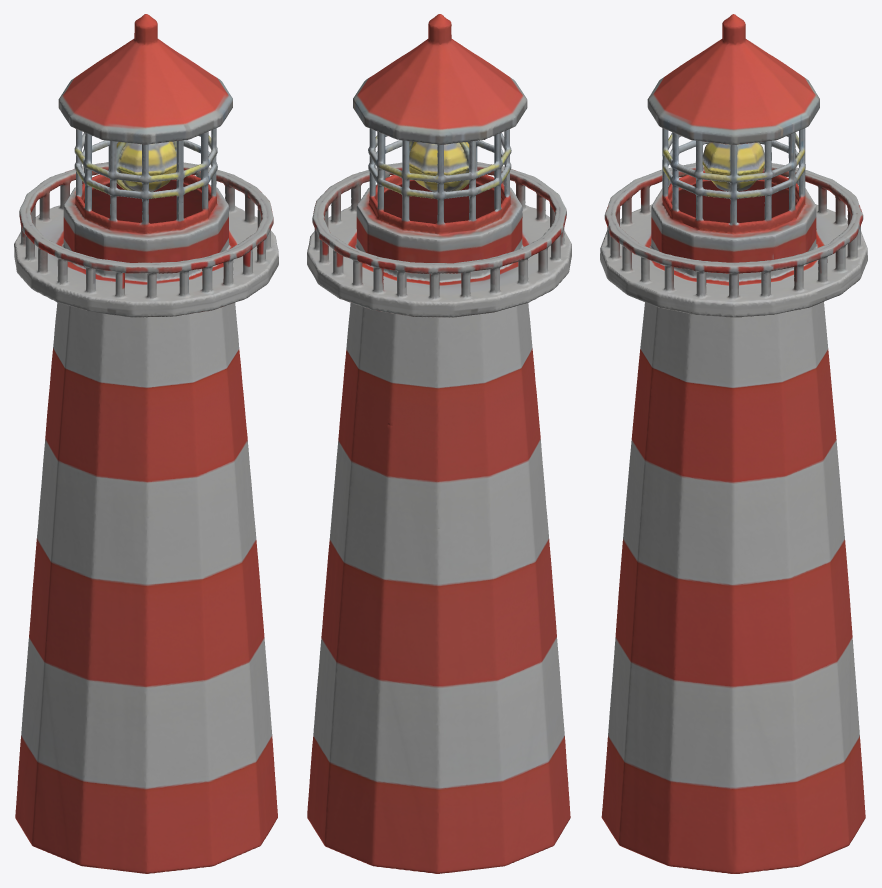
Rendered from farol.glb.
3 views of the same model, side by side, from view 1: azimuth 30°, elevation 25°; view 2: azimuth 150°, elevation 25°; view 3: azimuth 270°, elevation 25° (orthographic).
Parts seen in each view (by area): view 1: tripo_node_6f0da0af-90ce-4029-a81a-4902da517543; view 2: tripo_node_6f0da0af-90ce-4029-a81a-4902da517543; view 3: tripo_node_6f0da0af-90ce-4029-a81a-4902da517543.
Boxes of the visible parts, bbox=[...] form: tripo_node_6f0da0af-90ce-4029-a81a-4902da517543: bbox=[14, 14, 278, 873]; tripo_node_6f0da0af-90ce-4029-a81a-4902da517543: bbox=[307, 14, 571, 873]; tripo_node_6f0da0af-90ce-4029-a81a-4902da517543: bbox=[600, 14, 867, 873].
Size of the model in its own units: 0.2996 by 1 by 0.3017.
1 material, 1 textured.
